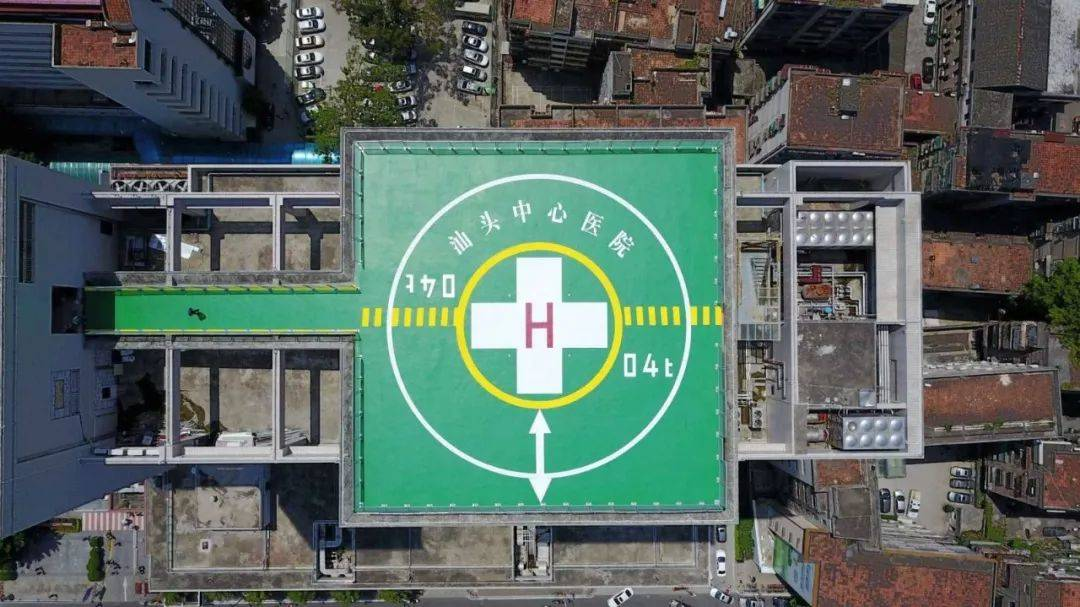H: (525, 303, 555, 350)
